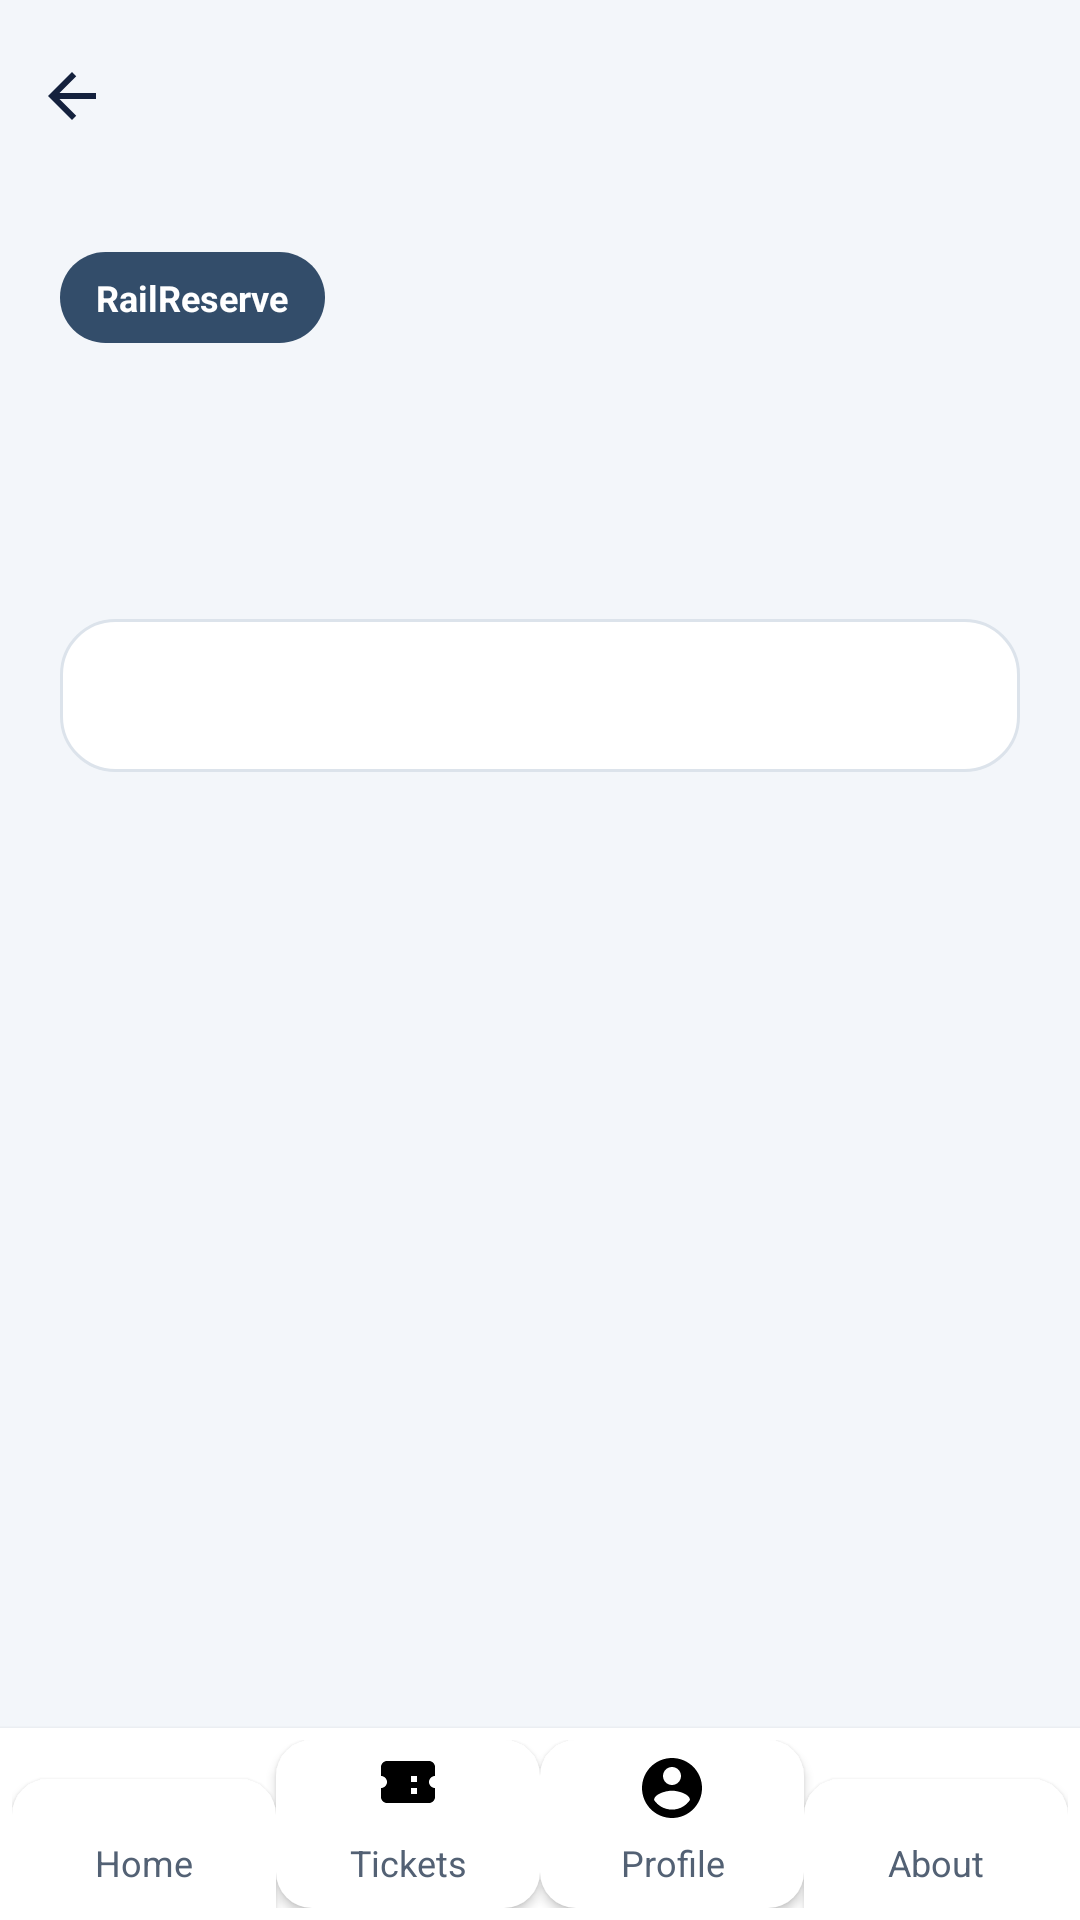

Icon bounding boxes for this 1080x1920 phone screenshot, format (x1, y1, x2, y2):
Back to previous screen: (48, 72, 96, 120)
